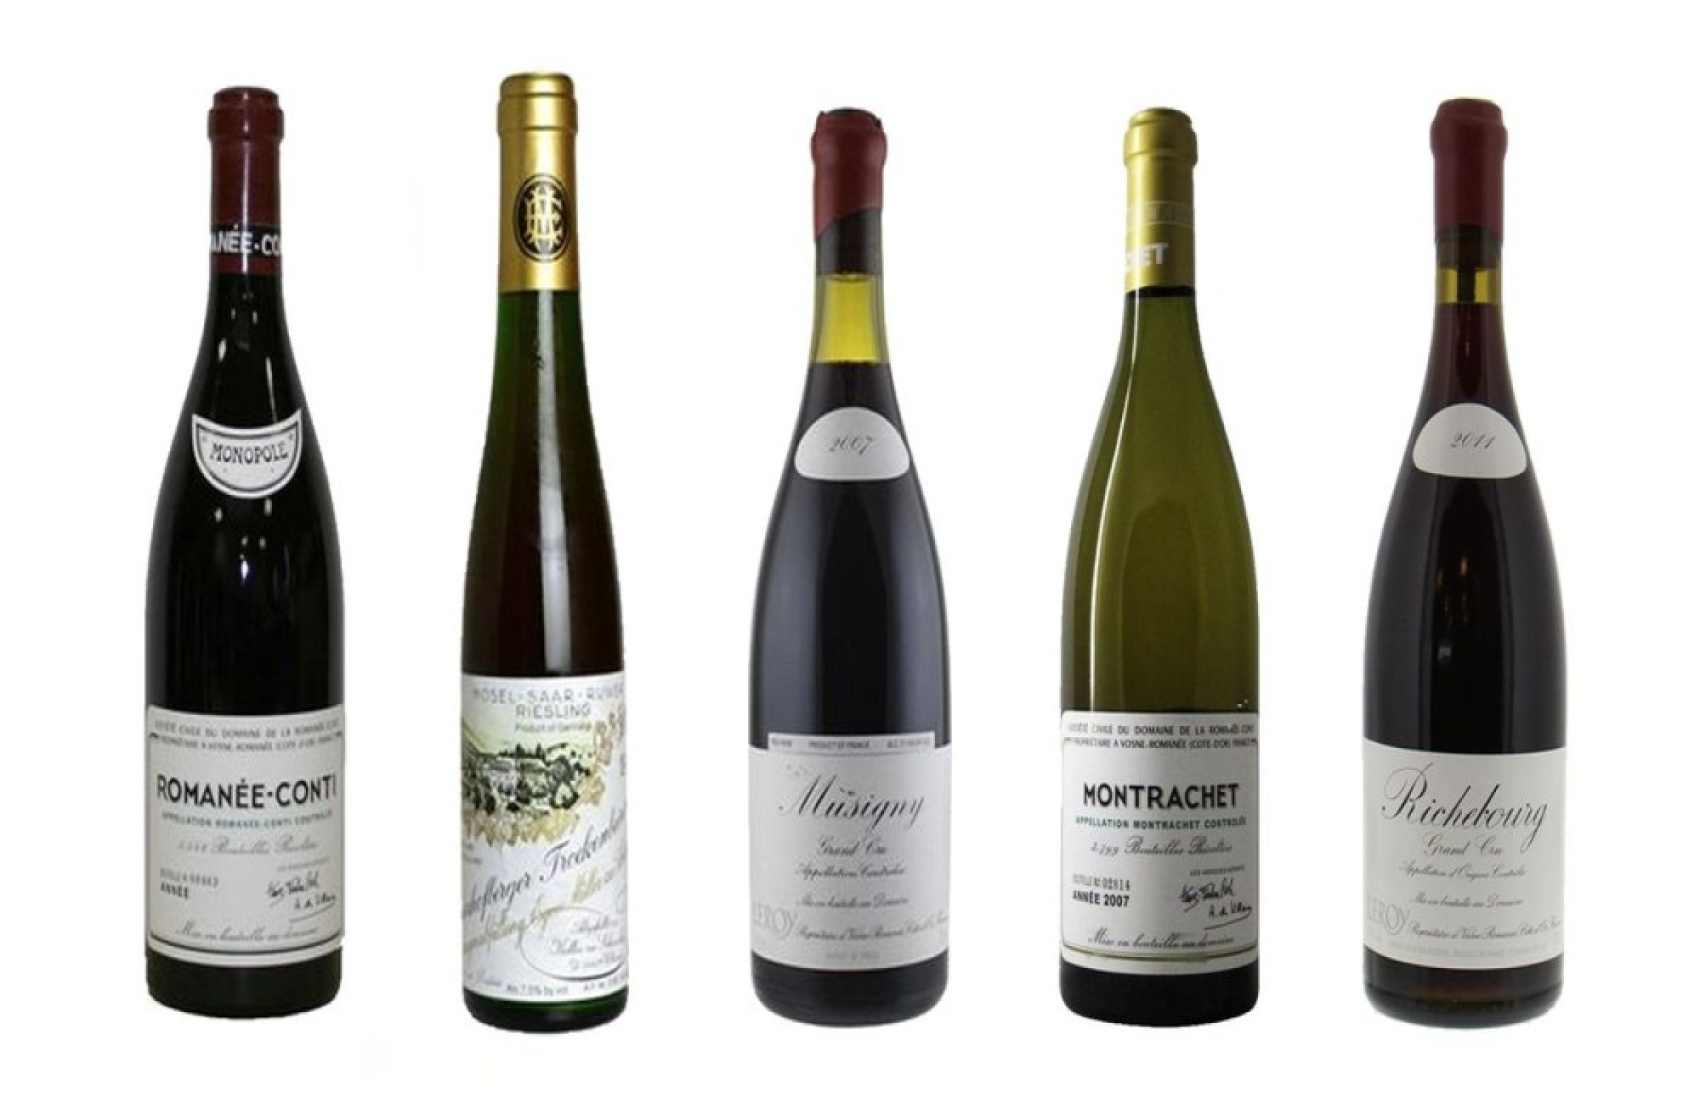wine: (1066, 87, 1266, 1033), (142, 59, 343, 1005), (1359, 78, 1559, 1024), (752, 59, 952, 1005), (452, 76, 624, 1042)
